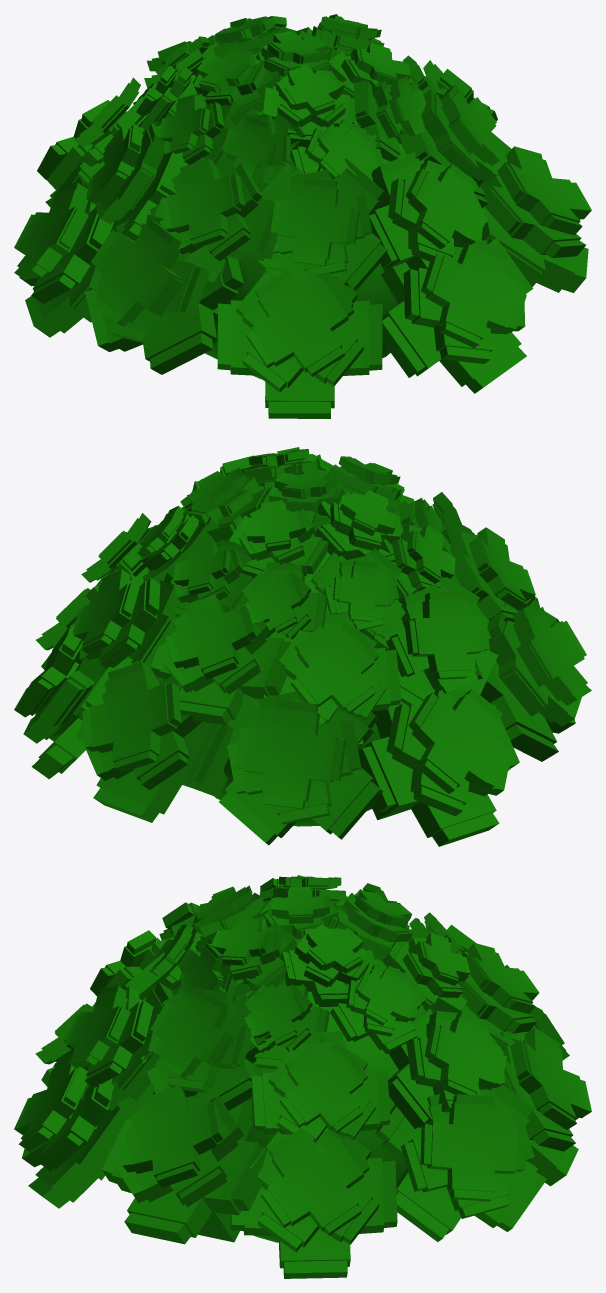
Rendered from P_Plant_1.fbx.
3 views of the same model, one above another, from view 1: azimuth 30°, elevation 25°; view 2: azimuth 150°, elevation 25°; view 3: azimuth 270°, elevation 25° (orthographic). The views are drawn at different scales.
Visible parts, largest first — view 1: Sphere; view 2: Sphere; view 3: Sphere.
Boxes of the visible parts, box(x1,y1,x2,y2) form: Sphere: box(14, 14, 591, 418); Sphere: box(14, 447, 591, 846); Sphere: box(14, 875, 591, 1278).
Size of the model in its own units: 58.28 by 37.83 by 59.86.
1 material, 1 textured.
